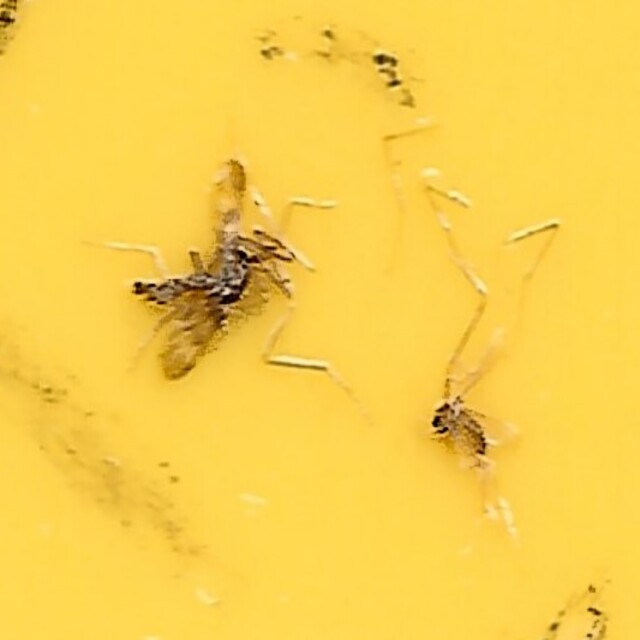Nematocera: (120, 158, 298, 388), (420, 363, 520, 482)
